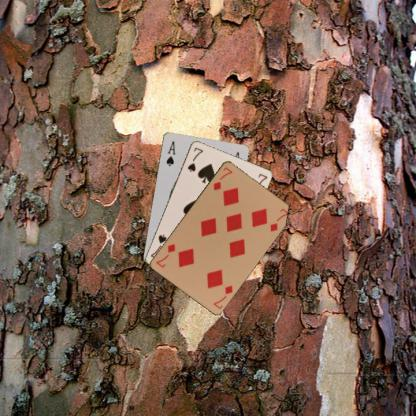7d: (210, 164, 233, 192), (211, 282, 234, 310)
7s: (185, 144, 204, 173)
As: (164, 138, 176, 167)
